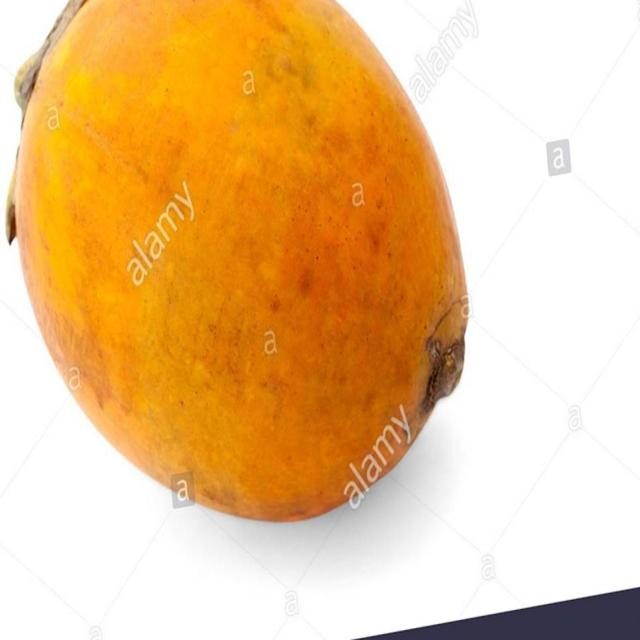good: (7, 0, 471, 526)
